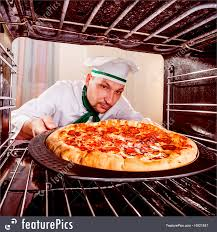pizza: (52, 126, 196, 169)
